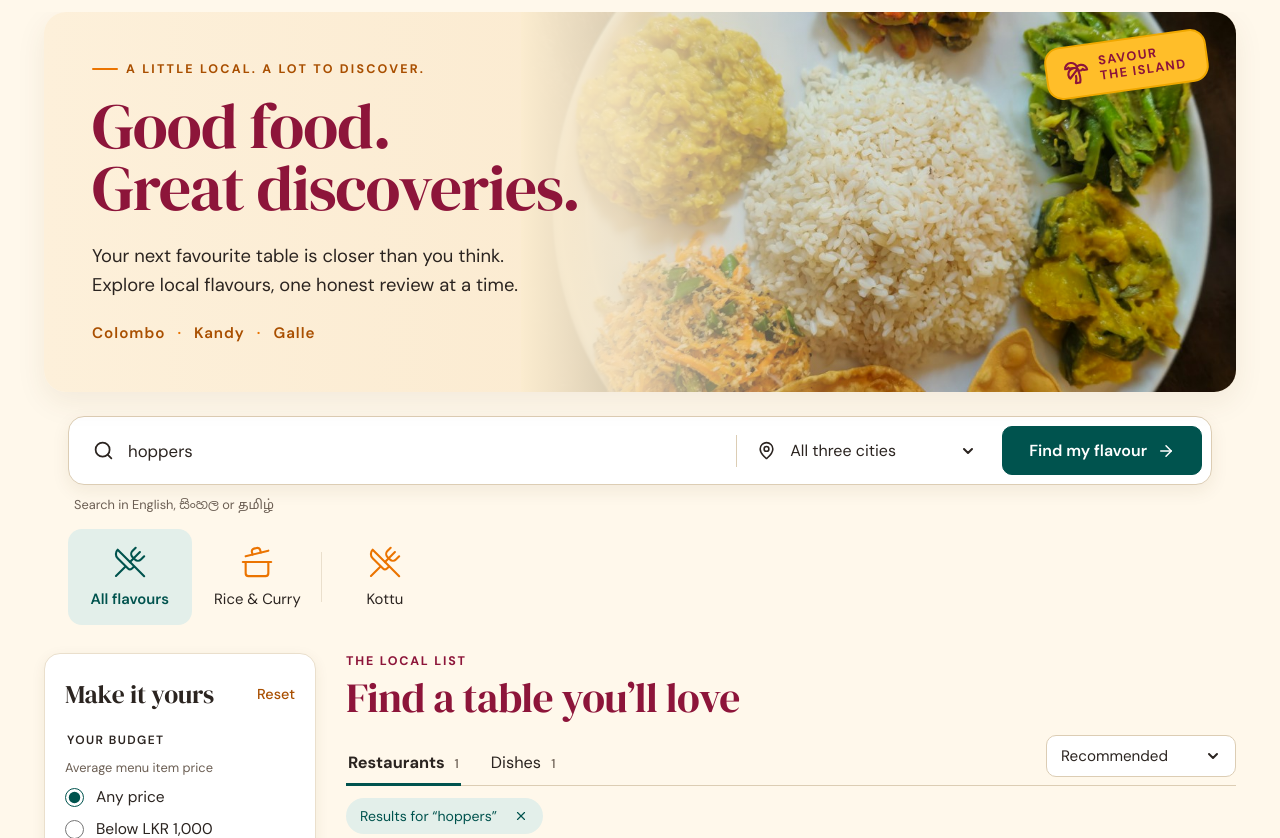
it: Explore search and filters › clears the search term from the query and the input with the clear button
Check: the field named "Search restaurants or dishes" holds "hoppers", box [128, 430, 716, 472]
Click the button named "Clear search" at x=521, y=816, box [507, 802, 535, 830]
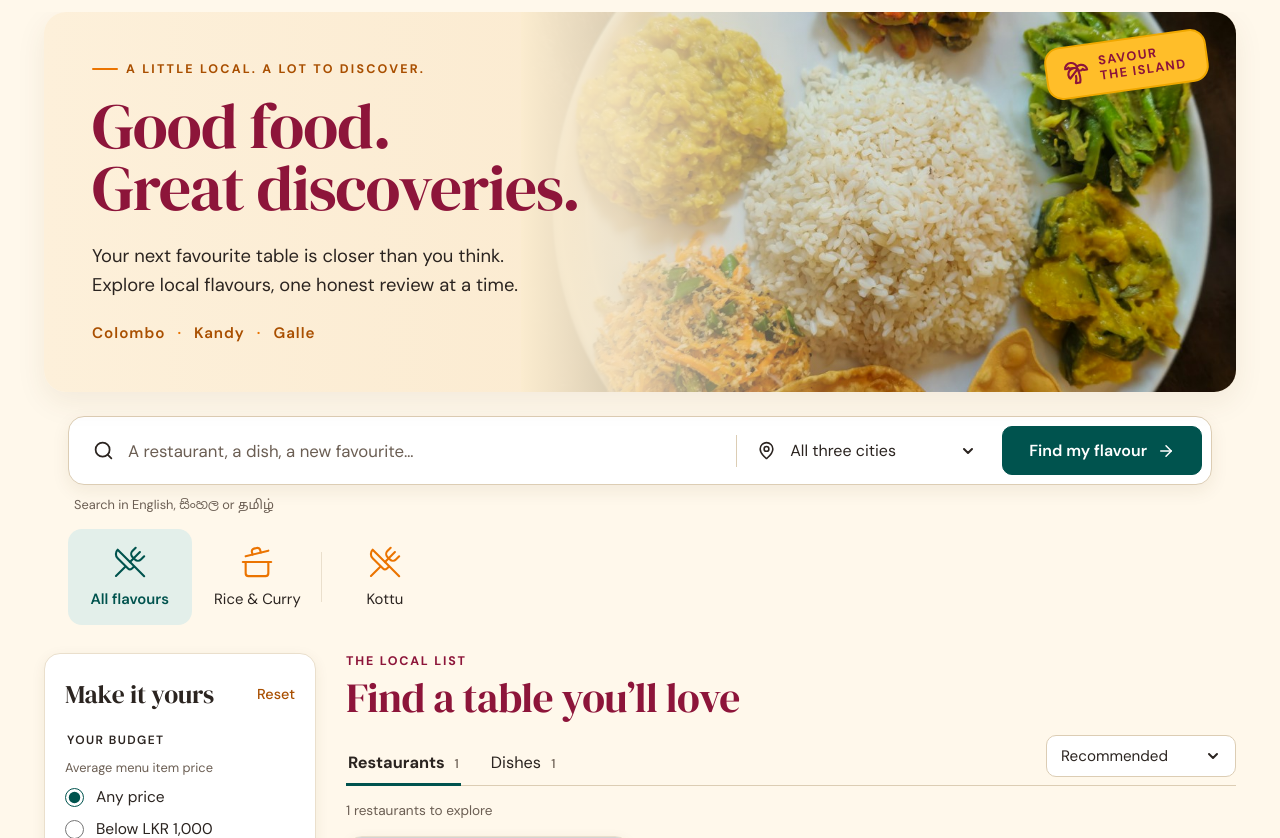
Check: the field named "Search restaurants or dishes" is empty, box [128, 430, 716, 472]
